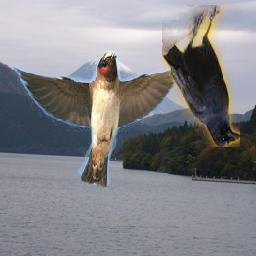Crow: (162, 5, 240, 147)
Swallow: (12, 51, 192, 188)
